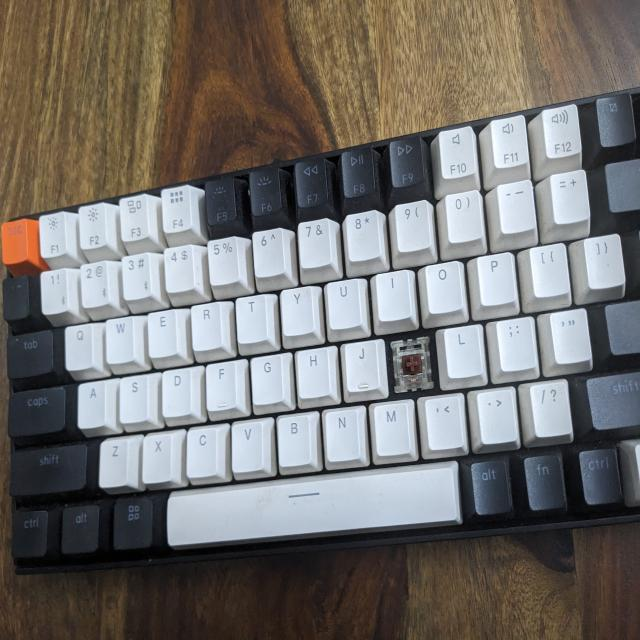C: (388, 339, 436, 387)
